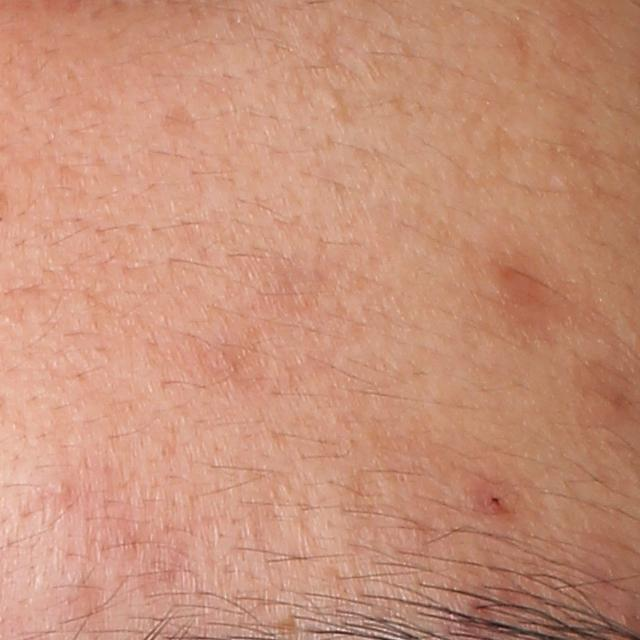atrophic_scar: (156, 100, 203, 140)
comedo: (321, 91, 346, 116), (46, 476, 73, 497)
papule: (480, 482, 516, 520)
